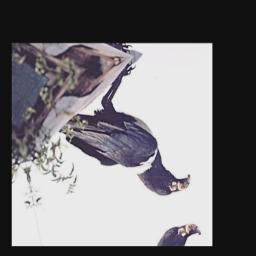Crow: (45, 53, 194, 223)
